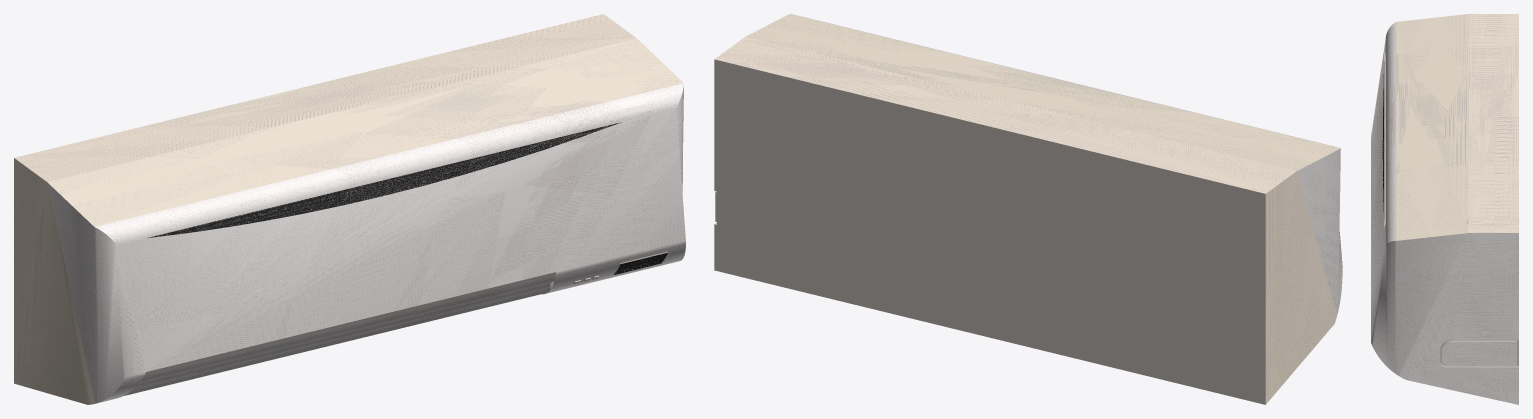
The model's file is ac+indoor.dae.
The picture shows the model from 3 angles, left to right: view 1: azimuth 30°, elevation 25°; view 2: azimuth 150°, elevation 25°; view 3: azimuth 270°, elevation 25°; orthographic projection. The views are drawn at different scales.
Visible parts, largest first — view 1: Component_1 (×7); view 2: Component_1 (×3); view 3: Component_1 (×6).
Part boxes in pixels (x1,y1,x2,y2): Component_1 (×7): [14, 14, 685, 404]; Component_1 (×3): [714, 14, 1342, 404]; Component_1 (×6): [1371, 14, 1518, 404].
Bounding box in the file's own units: 32.28 × 9.2 × 11.81.
